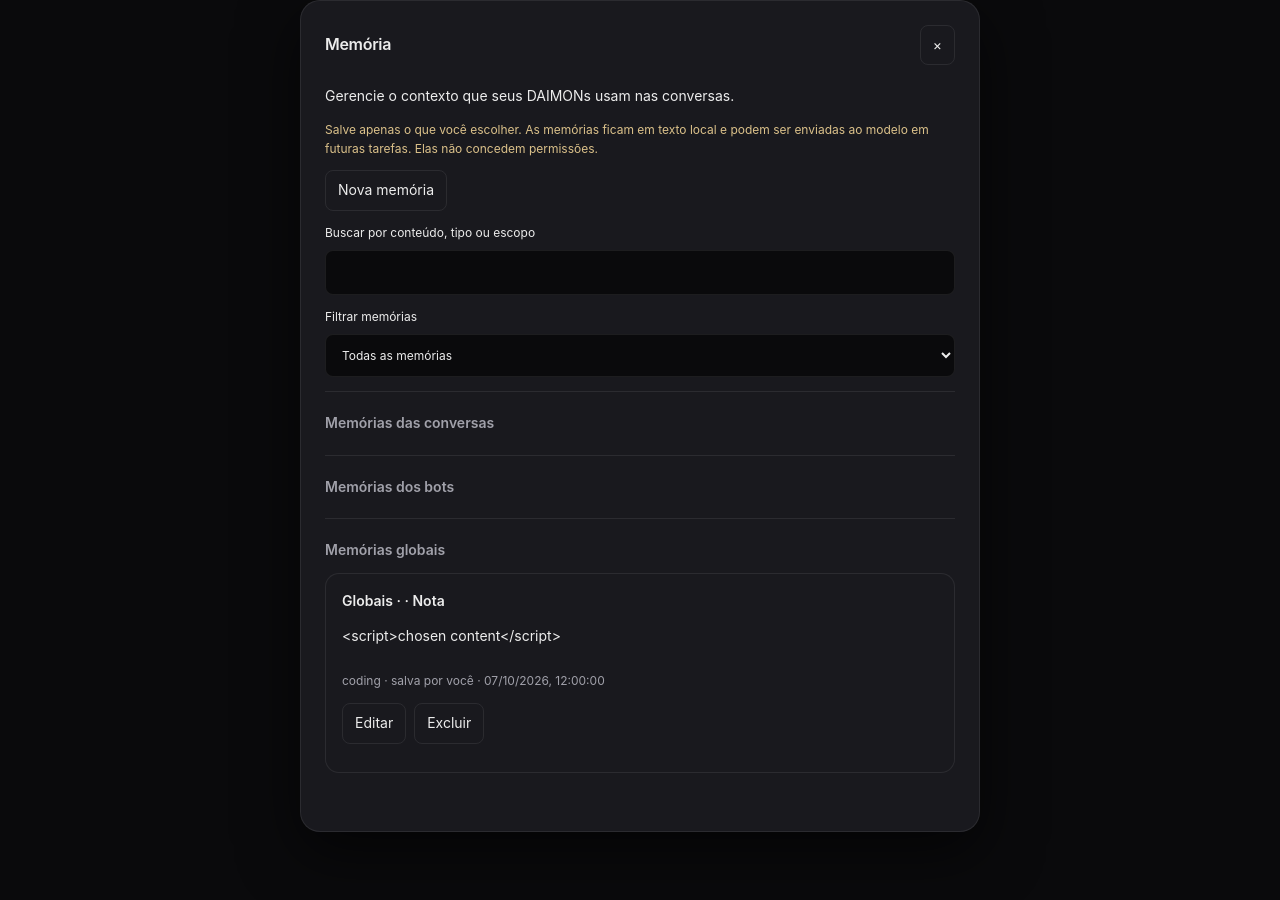
Test: rejects repeated tags and cancels without saving
Check: the text "<script>chosen content</script>" is shown, box [342,627,561,644]
Click the button with aria-label "Editar memória": [374, 724] box [342,704,406,744]
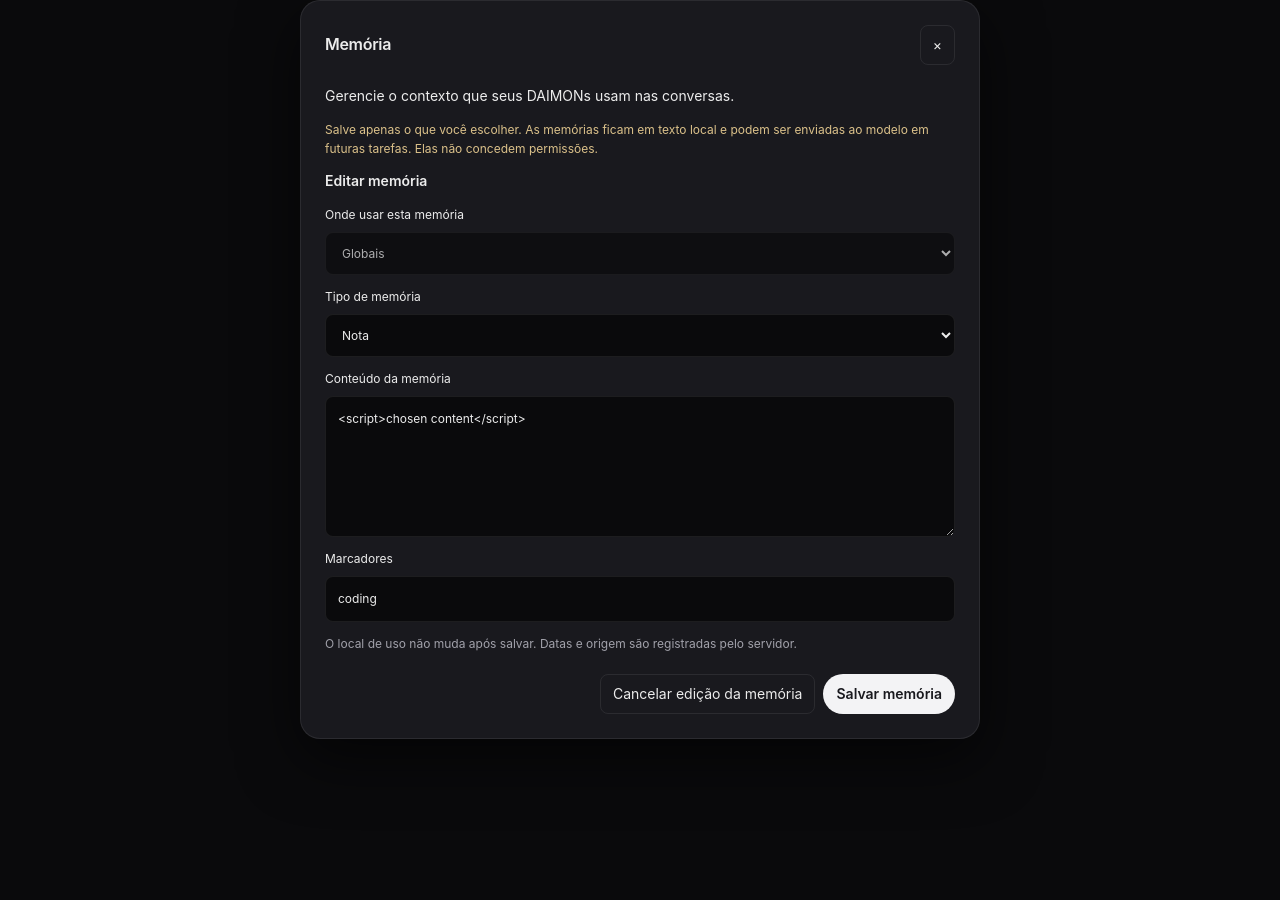
Replace the text in the field labelled "Marcadores" with "coding, coding": [640, 599] box [325,576,955,622]
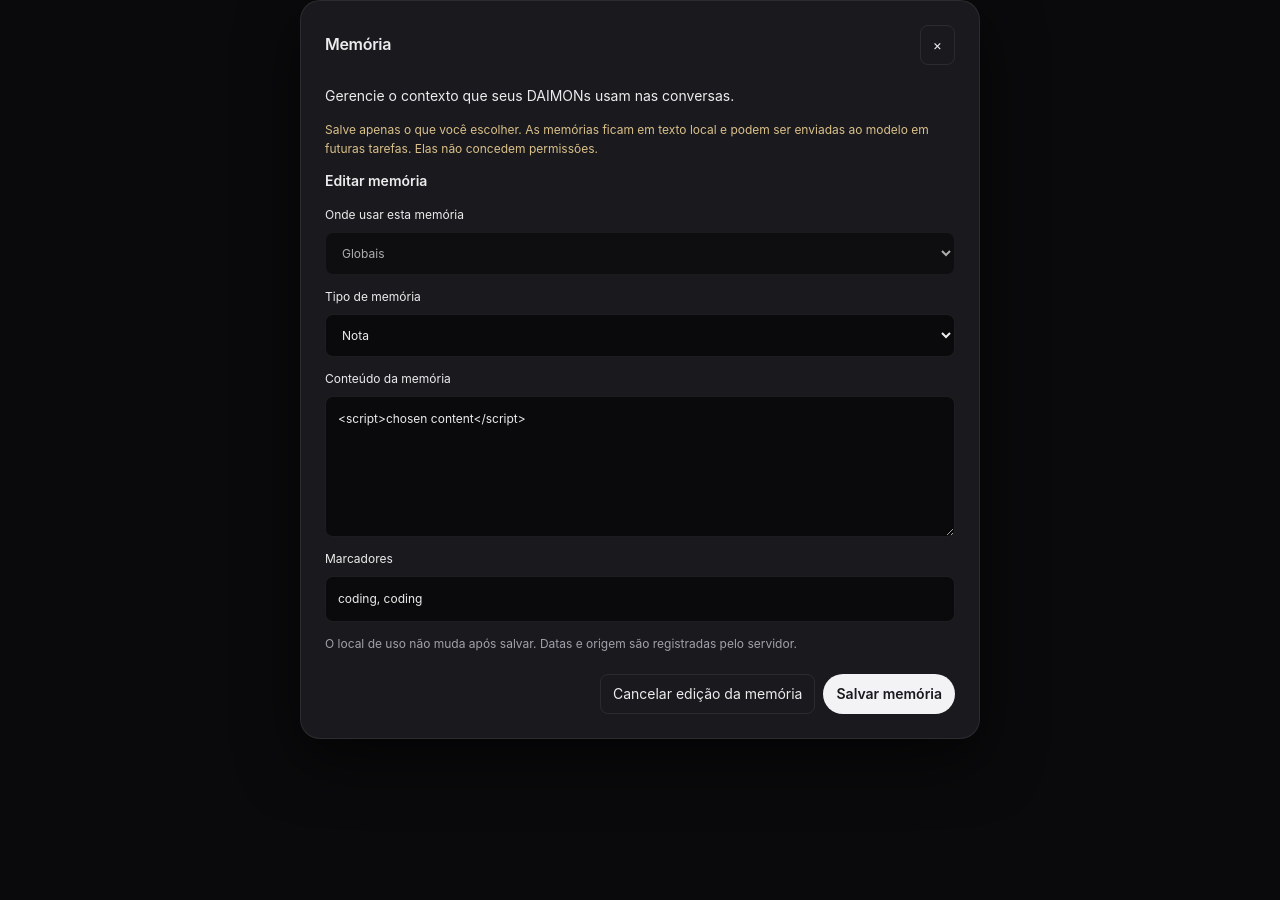
Click the button "Salvar memória": [889, 694] box [824,674,955,714]
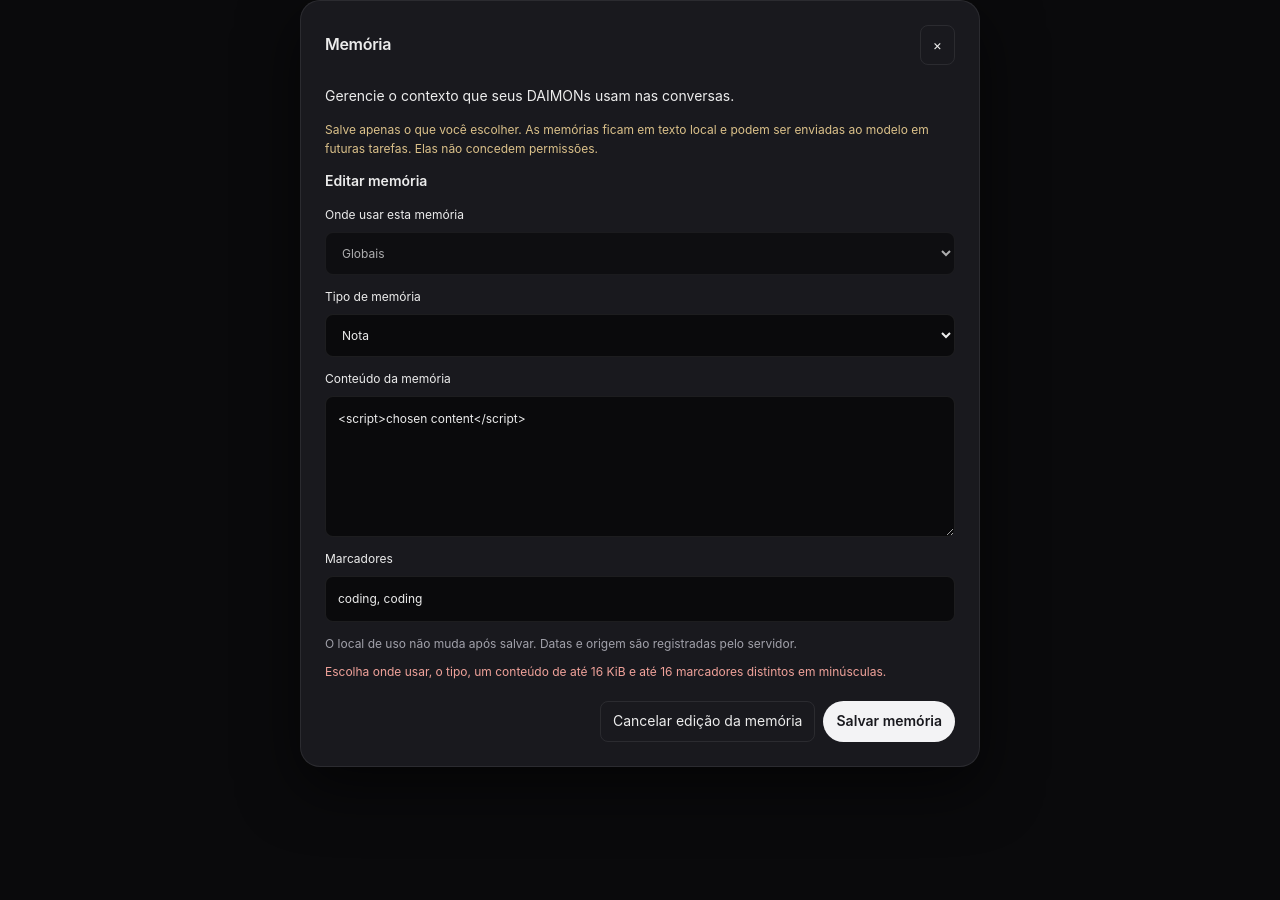
Check: the message is shown, box [325,662,955,681]
Click the button "Cancelar edição da memória": [708, 721] box [600,701,815,742]
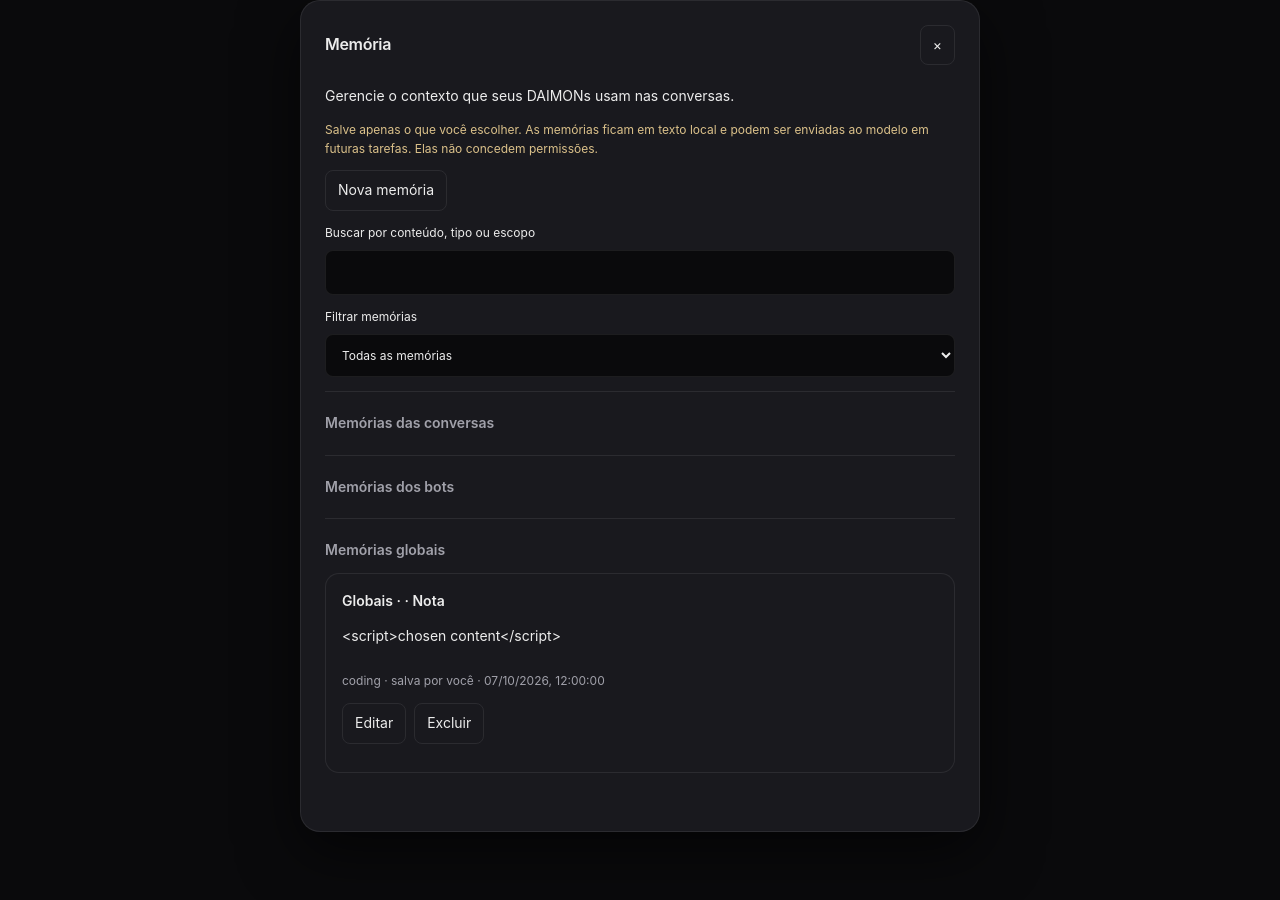
Check: the text "<script>chosen content</script>" is shown, box [342,627,561,644]
